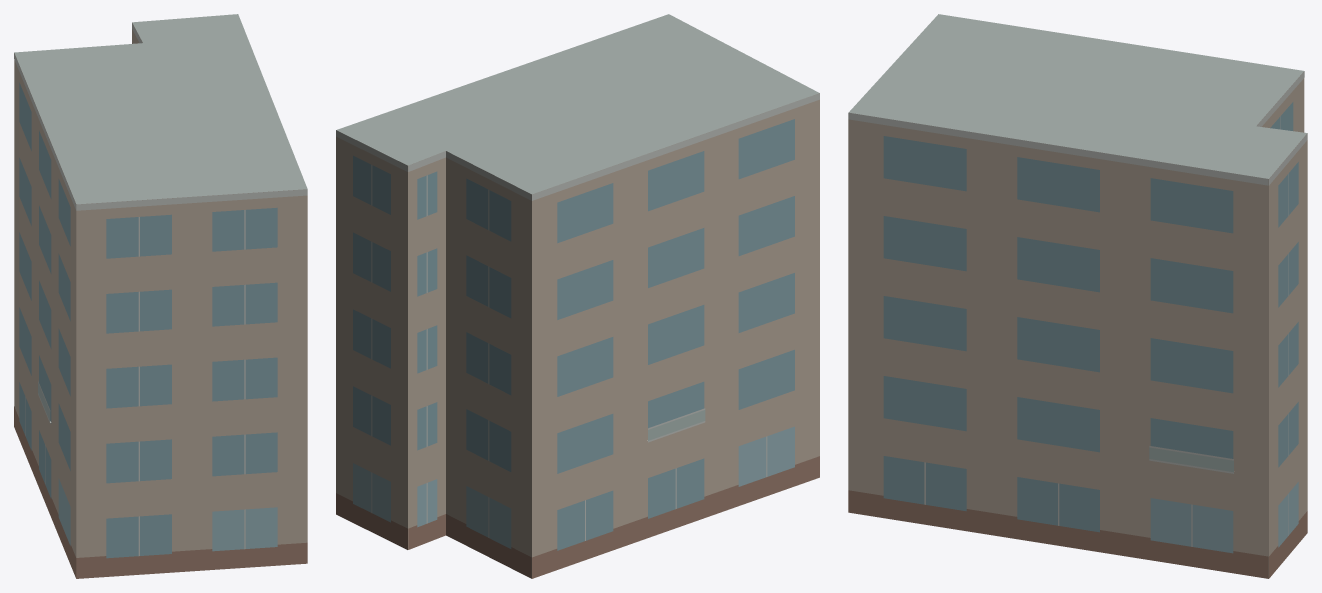
File: survey-upis-32885139.glb
The picture shows the model from 3 angles, left to right: view 1: azimuth 30°, elevation 25°; view 2: azimuth 150°, elevation 25°; view 3: azimuth 270°, elevation 25°; orthographic projection. The views are drawn at different scales.
Parts seen in each view (by area): view 1: survey-upis-32885139.tmp; view 2: survey-upis-32885139.tmp; view 3: survey-upis-32885139.tmp.
Part boxes in pixels (box(x1,y1,x2,y2)): survey-upis-32885139.tmp: box(14, 14, 307, 578); survey-upis-32885139.tmp: box(336, 14, 819, 578); survey-upis-32885139.tmp: box(848, 14, 1307, 578).
Bounding box in the file's own units: 12.75 × 14.4 × 14.99.
